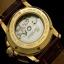watch: (5, 4, 55, 56)
